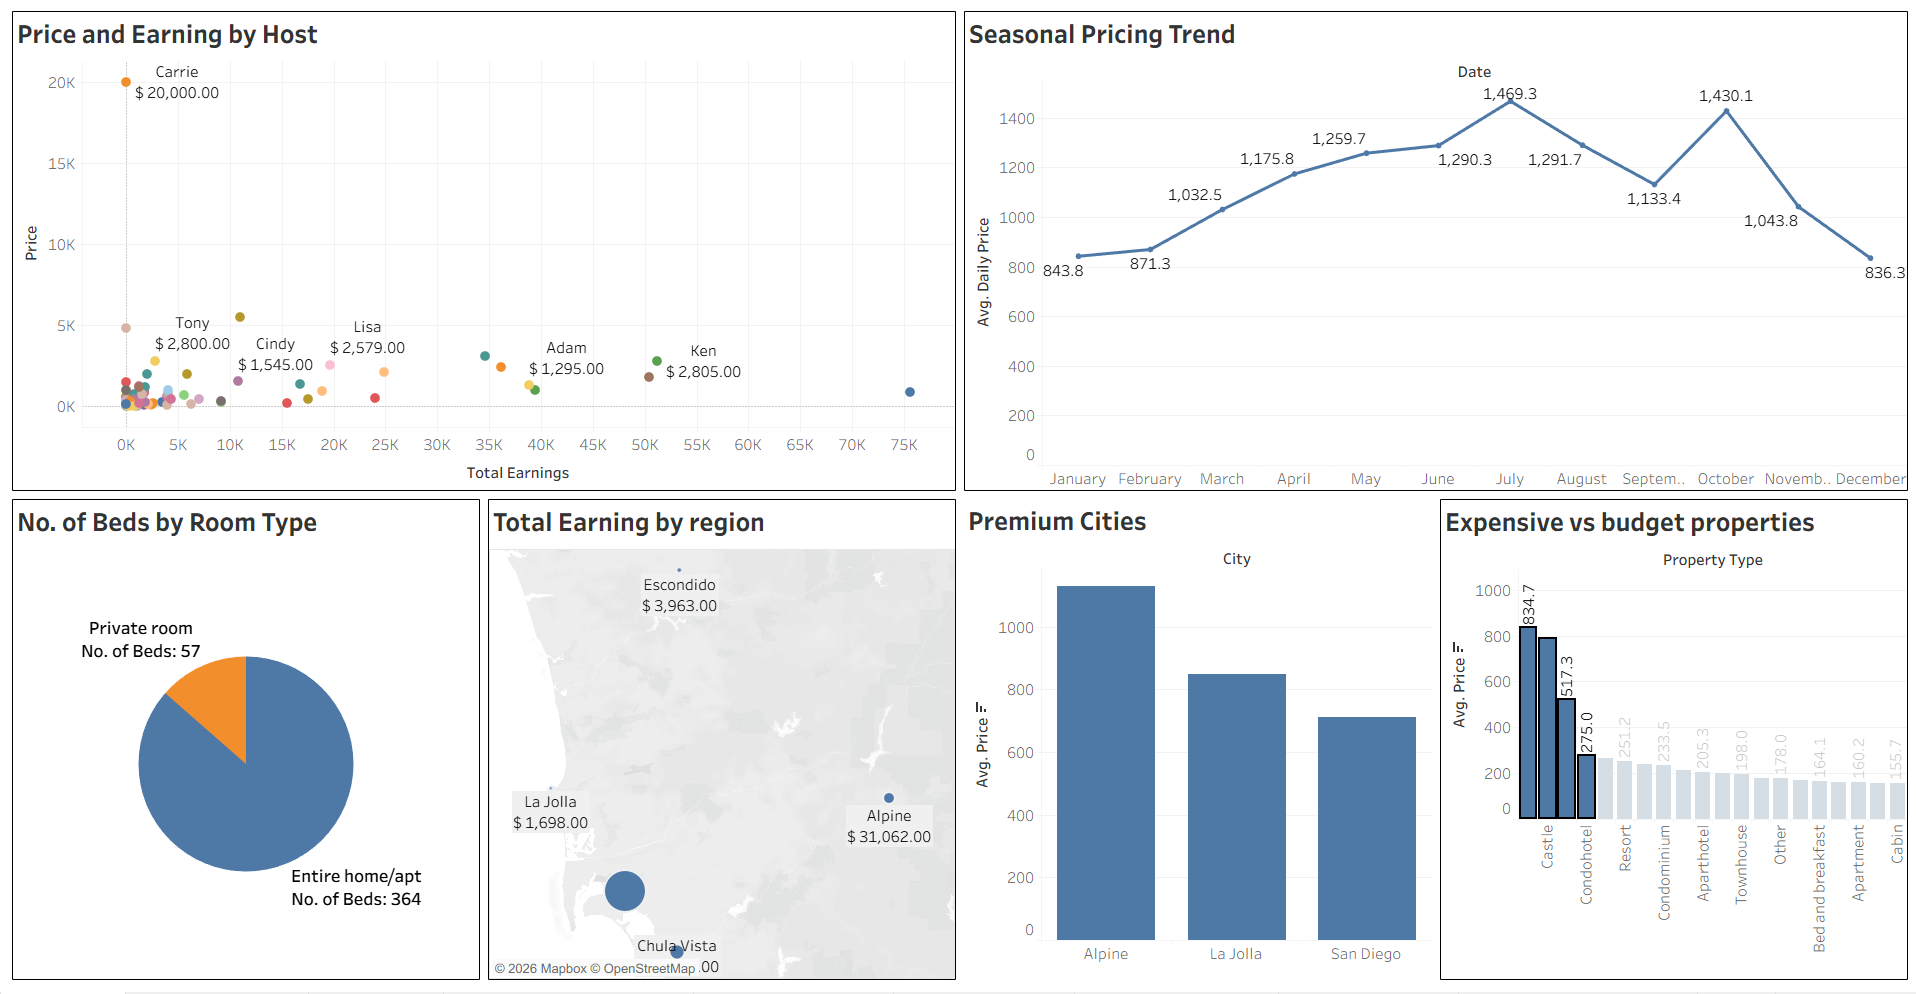

The page's visual inventory and layout, read from the dashboard file:
{"tool":"tableau","page":{"name":"Dashboard 1","canvas":[1000,1000],"units":"permille","ordinal":0},"visuals":[{"type":"worksheet","title":"Price and Earning by Host","mark":"Automatic","rows":["PRICE"],"cols":["Calculation_1278740853684789248"],"box":[4.9,10.7,495,489.1]},{"type":"worksheet","title":"Seasonal Pricing Trend","mark":"Automatic","rows":["DAILY_PRICE"],"cols":["DATE"],"box":[499.9,10.7,495.2,489.1]},{"type":"worksheet","title":"No. of Beds by Room Type","mark":"Pie","box":[4.9,499.8,247.4,489.4]},{"type":"worksheet","title":"Total Earning by region","mark":"Automatic","box":[252.3,499.8,247.7,489.4]},{"type":"worksheet","title":"Expensive vs budget properties","mark":"Automatic","rows":["PRICE"],"cols":["PROPERTY_TYPE"],"box":[500,499.8,495.1,489.4]}]}

Visuals, with their boxes on the dashboard's canvas, which has no fixed pixel size, in thousandths of its width and height (x1, y1, x2, y2). These are canvas units, not pixel positions in the 1916x994 screenshot, which may show the page scaled, cropped or inside an application window:
"Price and Earning by Host" worksheet: select_region(5, 11, 500, 500)
"Seasonal Pricing Trend" worksheet: select_region(500, 11, 995, 500)
"No. of Beds by Room Type" worksheet (Pie marks): select_region(5, 500, 252, 989)
"Total Earning by region" worksheet: select_region(252, 500, 500, 989)
"Expensive vs budget properties" worksheet: select_region(500, 500, 995, 989)
